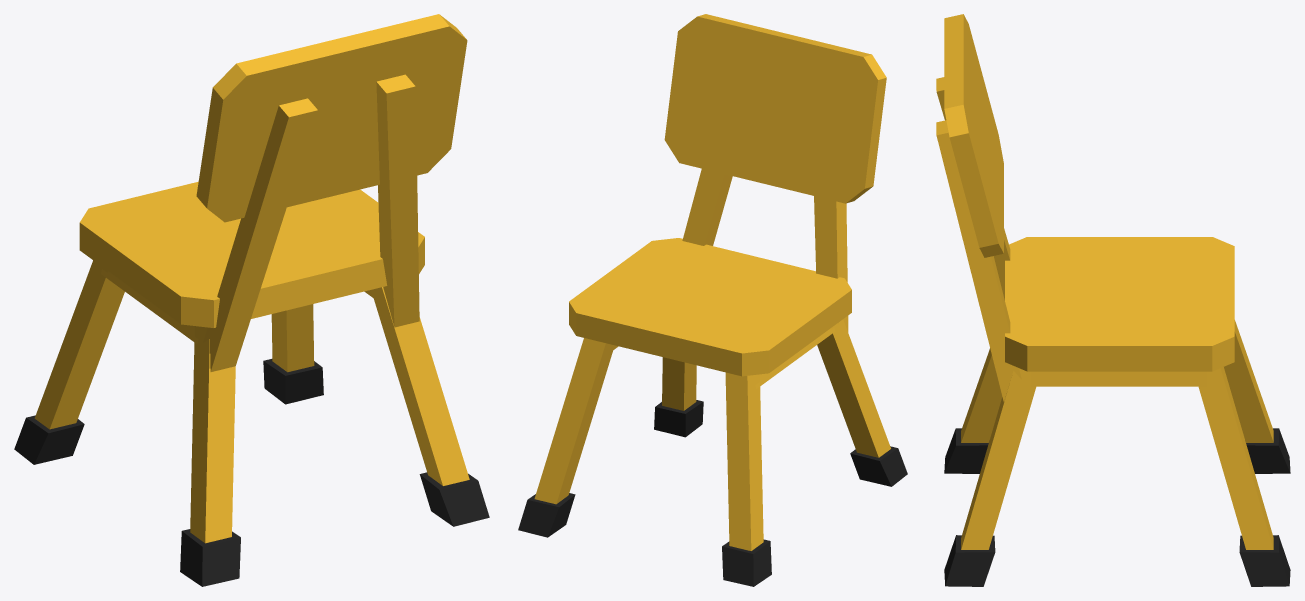
File: ghe3.fbx
3 renders of one model, left to right at view 1: azimuth 30°, elevation 25°; view 2: azimuth 150°, elevation 25°; view 3: azimuth 270°, elevation 25°, orthographic. The views are drawn at different scales.
Parts seen in each view (by area): view 1: ghe3; view 2: ghe3; view 3: ghe3.
Boxes of the visible parts, x1=… form: ghe3: x1=14, y1=14, x2=489, y2=586; ghe3: x1=518, y1=14, x2=907, y2=586; ghe3: x1=936, y1=14, x2=1290, y2=586.
Bounding box in the file's own units: 95.01 × 159 × 110.
